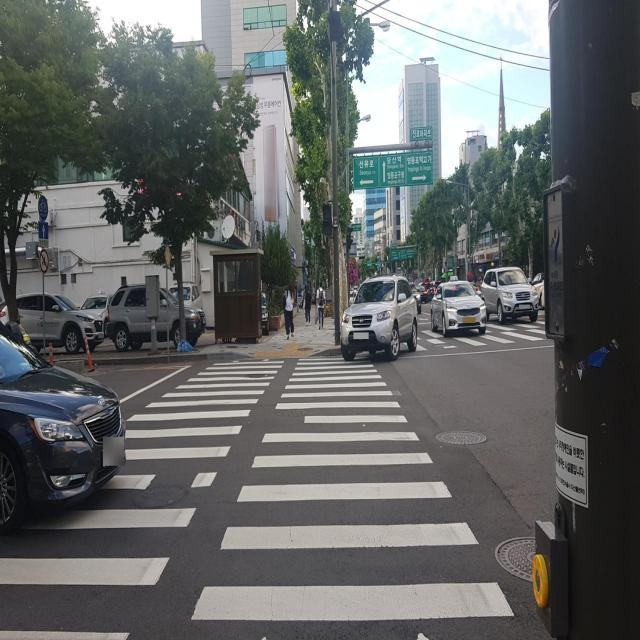횡단보도: (0, 357, 514, 639)
